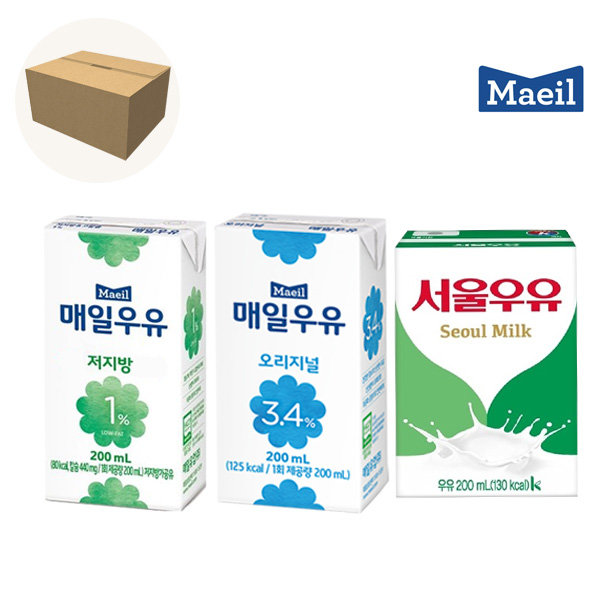milk: (43, 213, 390, 516), (390, 227, 577, 498)
